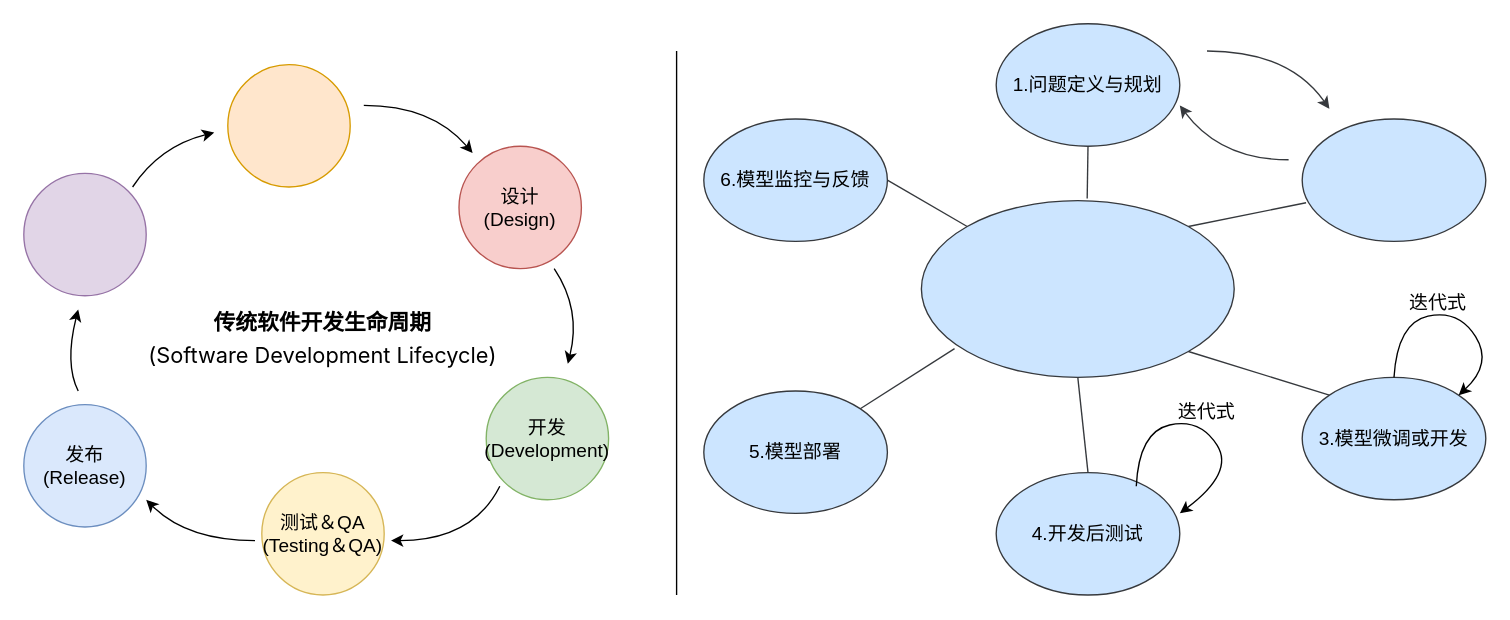
This 1510x620 diagram has some shape labels left out. The shapes that lost their labels are listed below. From the top down, each one's centre as x and y in pixels, then its label:
At pixel 288 125: "发现 (Discovery)".
At pixel 1393 179: "2.数据采集与准备".
At pixel 84 234: "维护 (Maintenance)".
At pixel 1077 288: "AI 开发生命周期 （AI DEVELOPMENT LIFECYCLE）".
